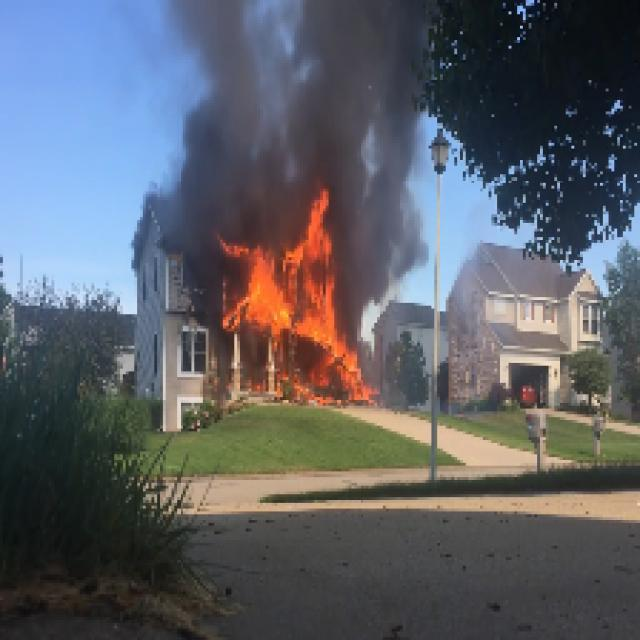Fire: (292, 185, 334, 338), (217, 242, 286, 328), (318, 342, 366, 394)
Smoke: (152, 2, 288, 228), (286, 3, 428, 183), (343, 188, 428, 334)
